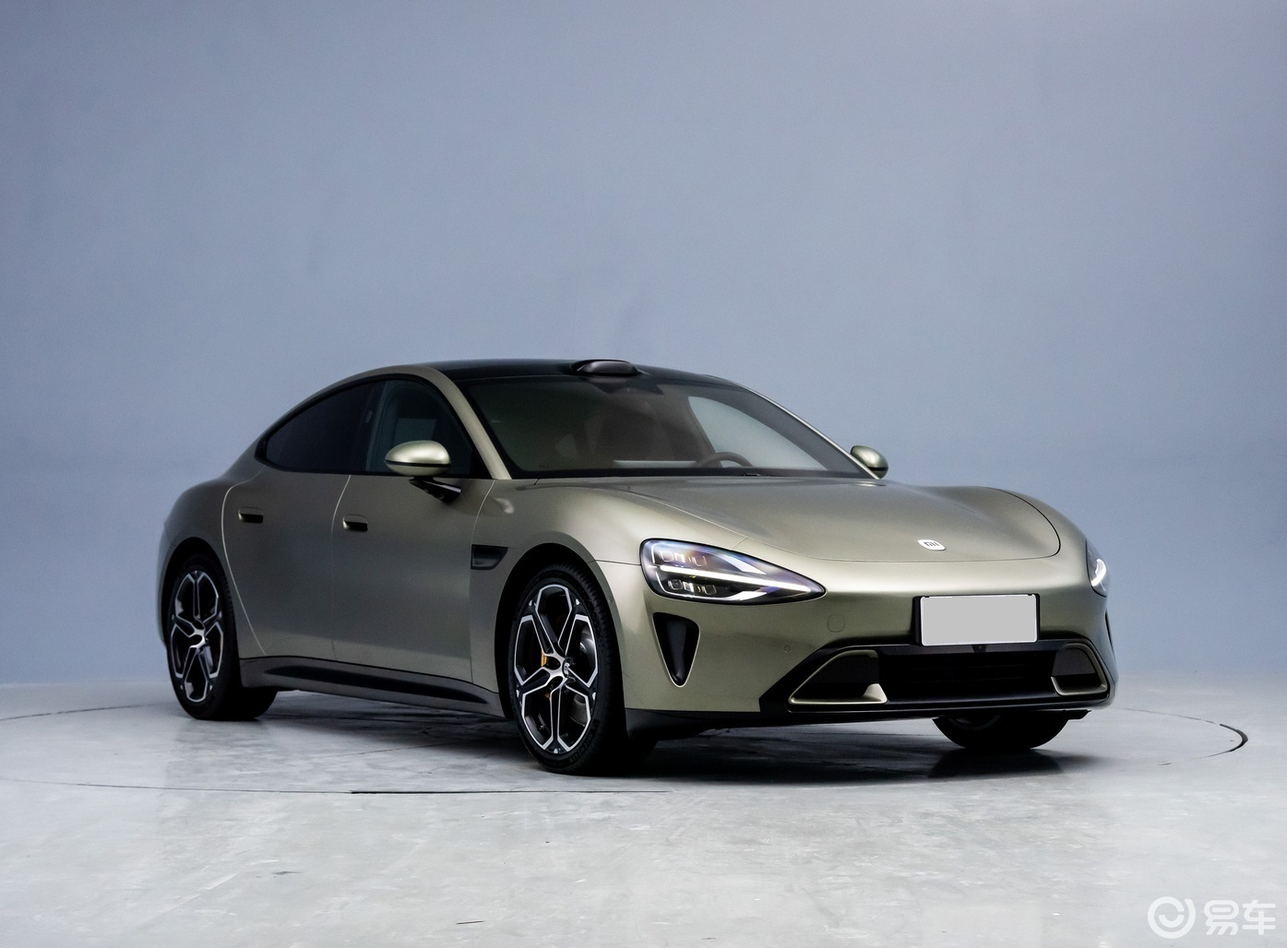su7: (152, 349, 1128, 777)
